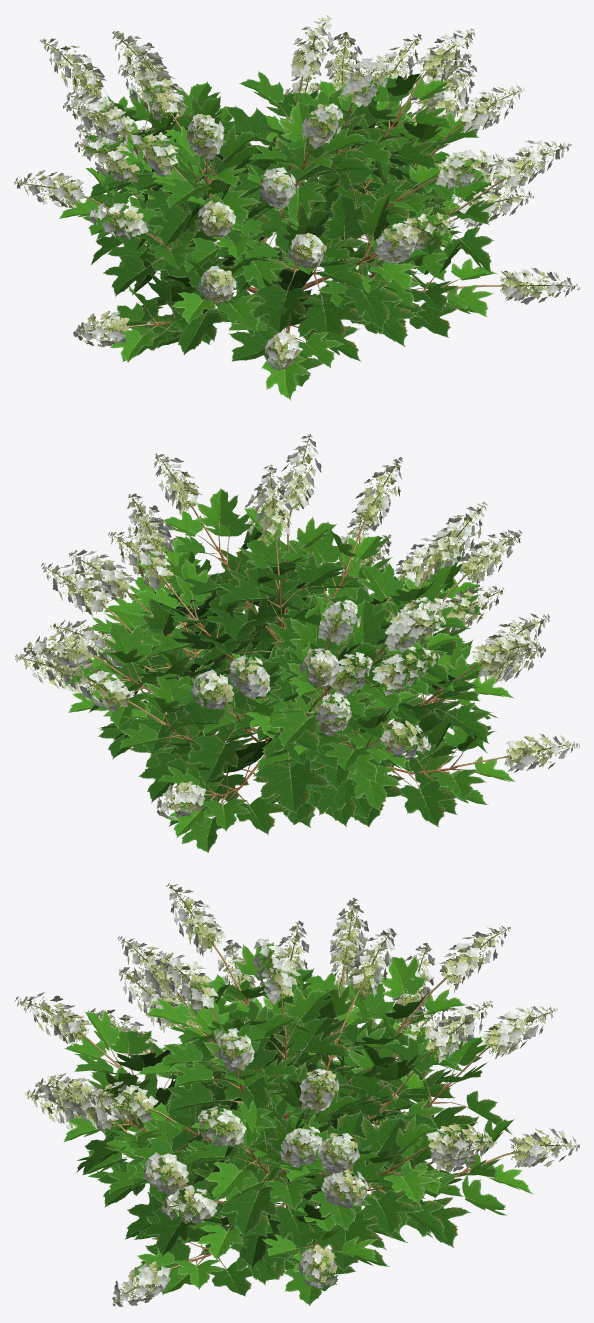
Rendered from Hydrangea quercifolia Alice001_LOW.FBX.
The picture shows the model from 3 angles, top to bottom: view 1: azimuth 30°, elevation 25°; view 2: azimuth 150°, elevation 25°; view 3: azimuth 270°, elevation 25°; orthographic projection. The views are drawn at different scales.
Visible parts, largest first — view 1: Hydrangea quercifolia Alice001_LOW; view 2: Hydrangea quercifolia Alice001_LOW; view 3: Hydrangea quercifolia Alice001_LOW.
Boxes of the visible parts, x1=… form: Hydrangea quercifolia Alice001_LOW: x1=14, y1=15, x2=579, y2=400; Hydrangea quercifolia Alice001_LOW: x1=15, y1=434, x2=579, y2=852; Hydrangea quercifolia Alice001_LOW: x1=15, y1=883, x2=579, y2=1306.
Size of the model in its own units: 1518 by 851 by 1420.
